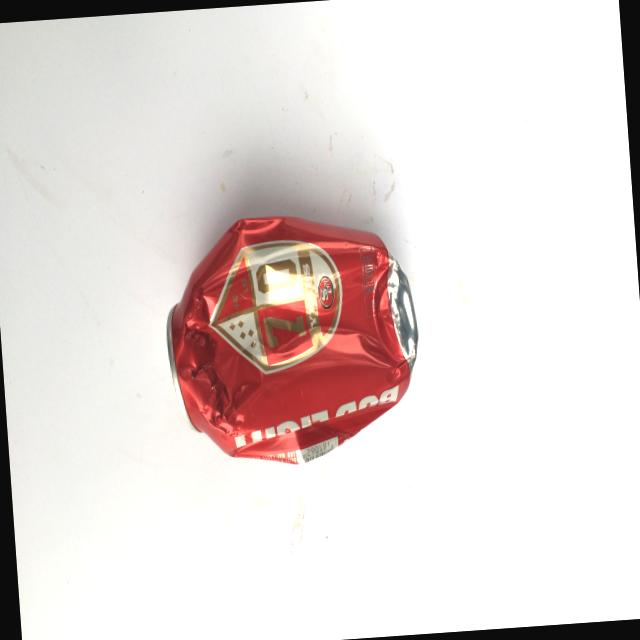Metal: (150, 187, 435, 483)
